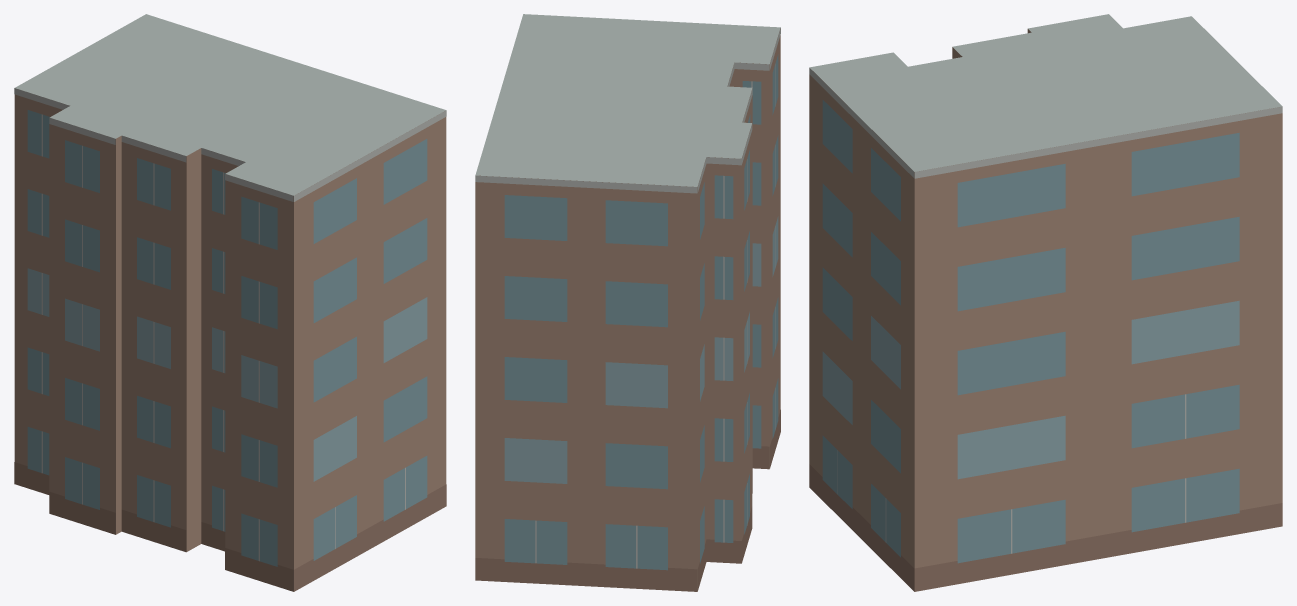
The model's file is survey-upis-32936702.glb.
3 renders of one model, left to right at view 1: azimuth 30°, elevation 25°; view 2: azimuth 150°, elevation 25°; view 3: azimuth 270°, elevation 25°, orthographic. The views are drawn at different scales.
Visible parts, largest first — view 1: survey-upis-32936702.tmp; view 2: survey-upis-32936702.tmp; view 3: survey-upis-32936702.tmp.
Boxes of the visible parts, x1,y1,x2,y2 form: survey-upis-32936702.tmp: (14, 14, 446, 591); survey-upis-32936702.tmp: (475, 14, 780, 591); survey-upis-32936702.tmp: (809, 14, 1282, 591).
Size of the model in its own units: 12.19 by 15.1 by 15.43.
